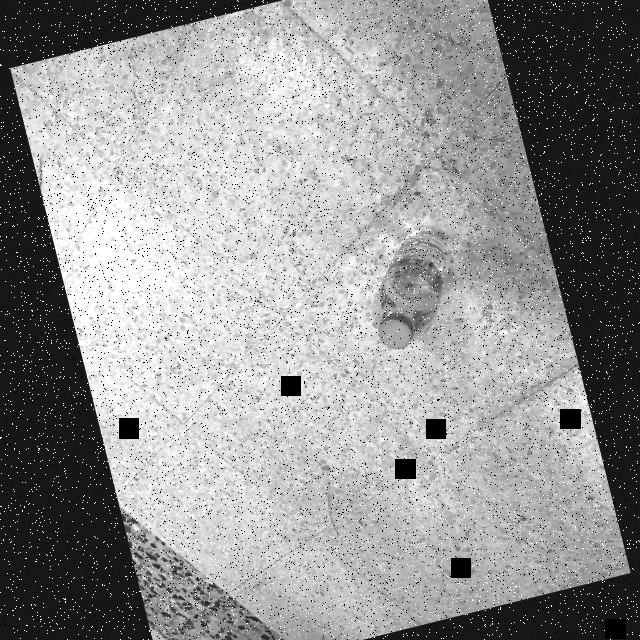plastic_bottle: (354, 222, 470, 354)
